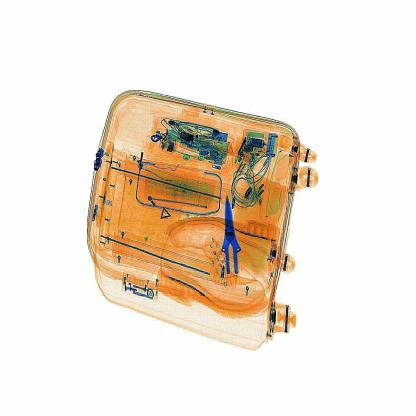gun: (200, 185, 266, 296)
